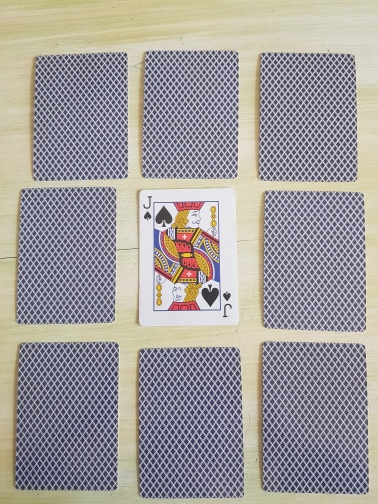jack: (138, 187, 240, 328)
